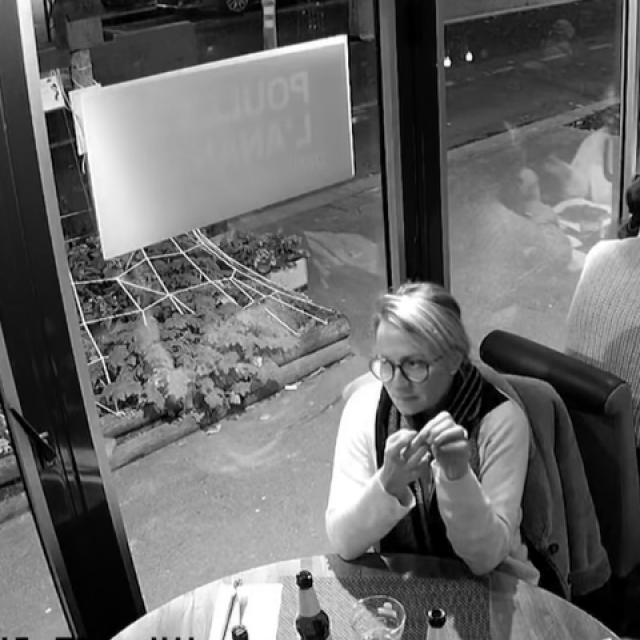Invader: (324, 278, 540, 586), (432, 109, 596, 320)
